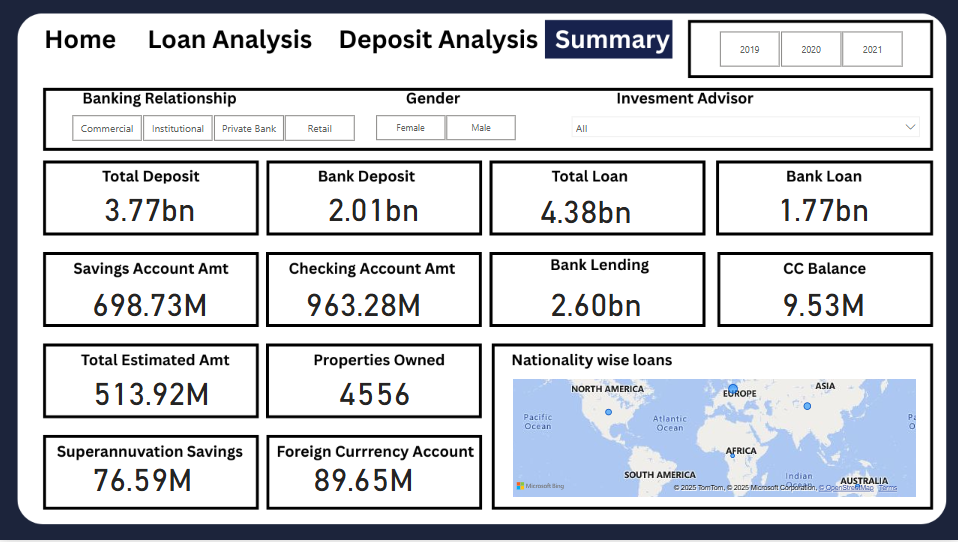

The dashboard page shown, as its layout file describes it:
{"tool":"powerbi","page":{"name":"Summary","canvas":[1280,720],"ordinal":3},"visuals":[{"type":"slicer","fields":{"Values":["Banking_Clients.Joining Year"]},"box":[934.5,35.7,293.7,60.4],"z":0},{"type":"slicer","fields":{"Values":["Banking Relationship.Banking Relationship"]},"box":[72.4,146,426.3,47.5],"z":1000},{"type":"slicer","fields":{"Values":["Gender.Gender"]},"box":[476.2,146.8,236,46.7],"z":2000},{"type":"slicer","fields":{"Values":["Investment Advisor.Investment Advisor"]},"box":[753.3,145.5,484.4,46.7],"z":3000},{"type":"card","fields":{"Values":["Banking_Clients.Total Deposit"]},"box":[116.6,245.6,168.8,61.7],"z":4000},{"type":"card","fields":{"Values":["Sum(Banking_Clients.Bank Deposits)"]},"box":[415.8,245.6,168.8,61.7],"z":5000},{"type":"card","fields":{"Values":["Banking_Clients.Total Loan"]},"box":[698.5,247,168.8,61.7],"z":6000},{"type":"card","fields":{"Values":["Sum(Banking_Clients.Bank Loans)"]},"box":[1015.4,245.6,168.8,61.7],"z":7000},{"type":"card","fields":{"Values":["Sum(Banking_Clients.Saving Accounts)"]},"box":[116.6,371.9,168.8,61.7],"z":8000},{"type":"card","fields":{"Values":["Banking_Clients.Total Deposit"]},"box":[116.6,245.6,168.8,61.7],"z":9000},{"type":"card","fields":{"Values":["Sum(Banking_Clients.Checking Accounts)"]},"box":[402.1,371.9,168.8,61.7],"z":10000},{"type":"card","fields":{"Values":["Sum(Banking_Clients.Business Lending)"]},"box":[712.2,371.9,168.8,61.7],"z":11000},{"type":"card","fields":{"Values":["Sum(Banking_Clients.Credit Card Balance)"]},"box":[1015.4,371.9,168.8,61.7],"z":12000},{"type":"card","fields":{"Values":["Sum(Banking_Clients.Estimated Income)"]},"box":[118,489.9,168.8,61.7],"z":13000},{"type":"card","fields":{"Values":["Sum(Banking_Clients.Properties Owned)"]},"box":[417.2,489.9,168.8,61.7],"z":14000},{"type":"card","fields":{"Values":["Sum(Banking_Clients.Superannuation Savings)"]},"box":[107,605.1,168.8,61.7],"z":15000},{"type":"card","fields":{"Values":["Sum(Banking_Clients.Foreign Currency Account)"]},"box":[402.1,605.1,168.8,61.7],"z":16000},{"type":"map","fields":{"Category":["Banking_Clients.Nationality"],"Size":["Banking_Clients.Total Loan"]},"box":[680.6,499.5,547.5,167.4],"z":17000},{"type":"actionButton","box":[447.3,24.7,275.8,54.9],"z":17001},{"type":"actionButton","box":[192.1,24.7,233.3,54.9],"z":17002},{"type":"actionButton","box":[50.8,24.7,112.5,54.9],"z":17003}]}

Visuals, with their boxes in screenshot pixels (x1, y1, x2, y2), scaled from the page's 1280x720 canvas onto the 958x542 screenshot:
slicer - Banking_Clients.Joining Year: x1=699, y1=27, x2=919, y2=72
slicer - Banking Relationship.Banking Relationship: x1=54, y1=110, x2=373, y2=146
slicer - Gender.Gender: x1=356, y1=111, x2=533, y2=146
slicer - Investment Advisor.Investment Advisor: x1=564, y1=110, x2=926, y2=145
card - Banking_Clients.Total Deposit: x1=87, y1=185, x2=214, y2=231
card - Sum(Banking_Clients.Bank Deposits): x1=311, y1=185, x2=438, y2=231
card - Banking_Clients.Total Loan: x1=523, y1=186, x2=649, y2=232
card - Sum(Banking_Clients.Bank Loans): x1=760, y1=185, x2=886, y2=231
card - Sum(Banking_Clients.Saving Accounts): x1=87, y1=280, x2=214, y2=326
card - Banking_Clients.Total Deposit: x1=87, y1=185, x2=214, y2=231
card - Sum(Banking_Clients.Checking Accounts): x1=301, y1=280, x2=427, y2=326
card - Sum(Banking_Clients.Business Lending): x1=533, y1=280, x2=659, y2=326
card - Sum(Banking_Clients.Credit Card Balance): x1=760, y1=280, x2=886, y2=326
card - Sum(Banking_Clients.Estimated Income): x1=88, y1=369, x2=215, y2=415
card - Sum(Banking_Clients.Properties Owned): x1=312, y1=369, x2=439, y2=415
card - Sum(Banking_Clients.Superannuation Savings): x1=80, y1=456, x2=206, y2=502
card - Sum(Banking_Clients.Foreign Currency Account): x1=301, y1=456, x2=427, y2=502
map - Banking_Clients.Nationality x Banking_Clients.Total Loan: x1=509, y1=376, x2=919, y2=502
actionButton: x1=335, y1=19, x2=541, y2=60
actionButton: x1=144, y1=19, x2=318, y2=60
actionButton: x1=38, y1=19, x2=122, y2=60
